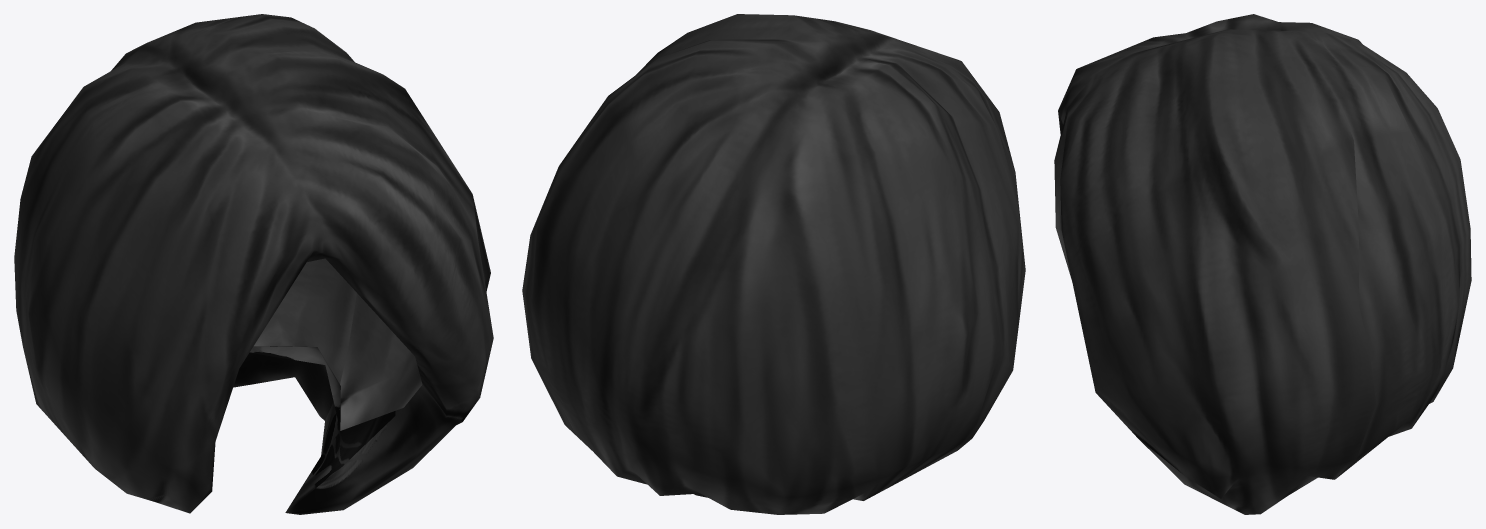
Rendered from AF_M_hair_G_07.fbx.
3 views of the same model, side by side, from view 1: azimuth 30°, elevation 25°; view 2: azimuth 150°, elevation 25°; view 3: azimuth 270°, elevation 25° (orthographic). The views are drawn at different scales.
Visible parts, largest first — view 1: AF_M_hair_G_07; view 2: AF_M_hair_G_07; view 3: AF_M_hair_G_07.
Boxes of the visible parts, box(x1,y1,x2,y2) form: AF_M_hair_G_07: box(14, 14, 493, 514); AF_M_hair_G_07: box(522, 14, 1025, 514); AF_M_hair_G_07: box(1054, 14, 1471, 514).
Size of the model in its own units: 827 by 891 by 764.
